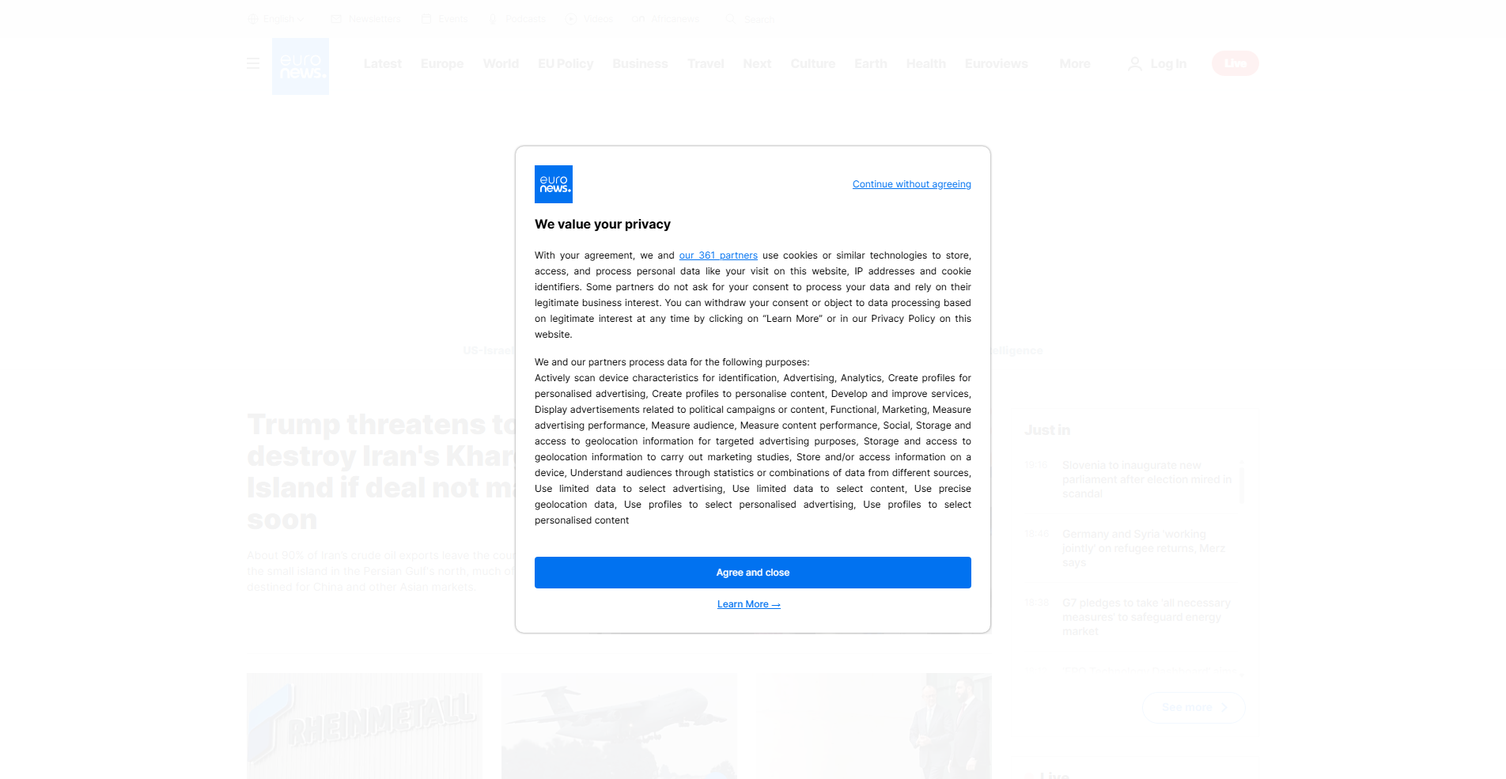button: (516, 544, 990, 633), (516, 165, 990, 203), (535, 588, 963, 620), (535, 557, 971, 588), (247, 3, 311, 35), (234, 38, 272, 89), (1125, 51, 1187, 76), (1212, 51, 1259, 76), (679, 249, 758, 261), (718, 6, 744, 32), (247, 62, 259, 64), (247, 67, 259, 69), (247, 58, 259, 59)
dropdown: (548, 89, 549, 357), (881, 89, 882, 357), (554, 89, 555, 320), (548, 89, 549, 253), (881, 89, 882, 253), (401, 89, 401, 269), (734, 89, 734, 269), (401, 89, 401, 240), (734, 89, 734, 240), (401, 89, 401, 253), (401, 89, 401, 310), (587, 89, 587, 310), (587, 89, 587, 240), (401, 89, 401, 225)
icon: (632, 13, 645, 25), (330, 13, 342, 25), (420, 13, 432, 25), (487, 13, 499, 25)
input: (718, 6, 881, 32)
link: (247, 408, 992, 634), (500, 383, 633, 506), (646, 383, 779, 506), (760, 123, 1051, 175), (760, 188, 1051, 240), (907, 123, 1198, 175), (613, 123, 904, 175), (613, 188, 904, 240), (1103, 239, 1252, 320), (1024, 526, 1238, 569), (1024, 595, 1238, 638), (1024, 664, 1238, 707), (1024, 458, 1238, 500), (580, 233, 729, 275), (755, 233, 904, 275), (929, 233, 1078, 275), (241, 123, 431, 155), (1024, 733, 1238, 761), (241, 237, 387, 269), (956, 38, 1038, 89), (241, 266, 367, 297), (528, 38, 603, 89), (603, 38, 678, 89), (501, 730, 737, 746), (756, 730, 992, 746), (247, 730, 482, 746), (241, 161, 355, 193), (241, 199, 353, 231), (721, 253, 833, 285), (721, 326, 827, 357), (781, 38, 845, 89), (272, 38, 329, 95), (574, 123, 675, 155), (1142, 692, 1246, 723), (721, 123, 820, 155), (411, 38, 473, 89), (721, 209, 823, 240), (574, 253, 672, 285), (354, 89, 416, 139), (897, 38, 956, 89), (354, 38, 411, 89), (678, 38, 734, 89), (574, 209, 665, 240), (473, 38, 528, 89), (845, 38, 897, 89), (362, 161, 443, 193), (427, 180, 504, 212), (734, 38, 781, 89), (580, 156, 729, 172), (755, 156, 904, 172), (929, 156, 1078, 172), (1103, 156, 1252, 172), (463, 343, 624, 357), (360, 199, 429, 231), (574, 152, 705, 168), (574, 123, 693, 139), (241, 294, 359, 310), (574, 326, 687, 342), (907, 237, 1020, 253), (574, 123, 686, 139), (574, 266, 686, 282), (574, 123, 685, 139), (427, 180, 538, 196), (721, 152, 830, 168), (574, 196, 683, 212), (574, 180, 682, 196), (721, 297, 828, 313), (574, 152, 679, 168), (427, 152, 530, 168), (926, 343, 1043, 357), (427, 152, 526, 168), (427, 123, 525, 139), (574, 152, 671, 168), (388, 152, 485, 168), (427, 209, 523, 225), (427, 266, 523, 282), (388, 180, 484, 196), (427, 152, 522, 168), (388, 123, 483, 139), (907, 209, 1002, 225), (241, 237, 335, 253), (574, 225, 674, 240), (427, 123, 519, 139), (427, 253, 517, 269), (907, 152, 993, 168), (427, 225, 518, 240), (427, 152, 511, 168), (427, 180, 511, 196), (574, 209, 657, 225), (427, 209, 509, 225), (241, 237, 323, 253), (574, 297, 656, 313), (721, 225, 807, 240), (241, 180, 321, 196), (574, 225, 659, 240), (241, 152, 318, 168), (241, 123, 318, 139), (721, 180, 797, 196), (574, 152, 650, 168), (427, 123, 503, 139), (574, 180, 649, 196), (574, 152, 649, 168), (241, 152, 316, 168), (574, 168, 653, 183), (427, 237, 501, 253), (241, 152, 314, 168), (241, 123, 313, 139), (241, 123, 312, 139), (637, 343, 718, 357), (721, 123, 791, 139), (574, 123, 644, 139), (574, 237, 644, 253), (427, 152, 496, 168), (241, 180, 309, 196), (241, 209, 309, 225), (790, 343, 867, 357), (241, 209, 308, 225), (427, 123, 494, 139), (241, 123, 308, 139), (388, 237, 454, 253), (388, 209, 453, 225), (241, 123, 305, 139), (241, 152, 304, 168), (241, 237, 302, 253), (388, 209, 448, 225), (574, 209, 633, 225), (241, 180, 300, 196), (427, 152, 484, 168), (241, 209, 298, 225), (241, 180, 296, 196), (241, 152, 295, 168), (330, 13, 401, 25), (580, 214, 650, 226), (721, 168, 777, 183), (574, 123, 626, 139), (241, 123, 293, 139), (427, 209, 478, 225), (632, 13, 699, 25), (427, 123, 477, 139), (241, 180, 291, 196), (241, 209, 290, 225), (907, 123, 956, 139), (1024, 422, 1070, 439), (388, 123, 436, 139), (241, 180, 288, 196), (241, 237, 287, 253), (487, 13, 546, 25), (427, 180, 471, 196), (241, 294, 285, 310), (241, 123, 285, 139), (721, 196, 765, 212), (427, 180, 470, 196), (574, 209, 617, 225), (907, 180, 950, 196), (574, 180, 616, 196), (241, 209, 281, 225), (241, 152, 281, 168), (241, 180, 281, 196), (731, 343, 776, 357), (304, 432, 329, 457), (342, 432, 367, 457), (380, 432, 405, 457), (418, 432, 443, 457), (456, 432, 481, 457), (427, 123, 466, 139), (241, 152, 280, 168), (427, 123, 465, 139), (574, 180, 611, 196), (929, 214, 978, 226), (420, 13, 468, 25), (565, 13, 613, 25), (755, 214, 803, 226), (388, 152, 424, 168), (241, 180, 277, 196), (241, 266, 276, 282), (241, 123, 275, 139), (241, 209, 275, 225), (427, 180, 461, 196), (241, 266, 275, 282), (241, 180, 275, 196), (574, 180, 606, 196), (241, 237, 273, 253), (241, 209, 271, 225), (241, 152, 270, 168), (881, 343, 912, 357), (241, 237, 266, 253), (388, 237, 413, 253), (427, 209, 450, 225), (388, 180, 410, 196), (241, 209, 259, 225)
